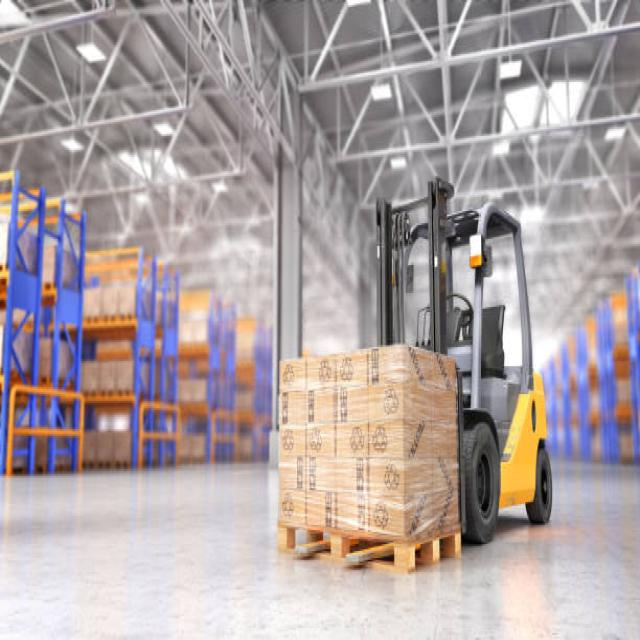Wooden-Pallets: (274, 522, 462, 577)
